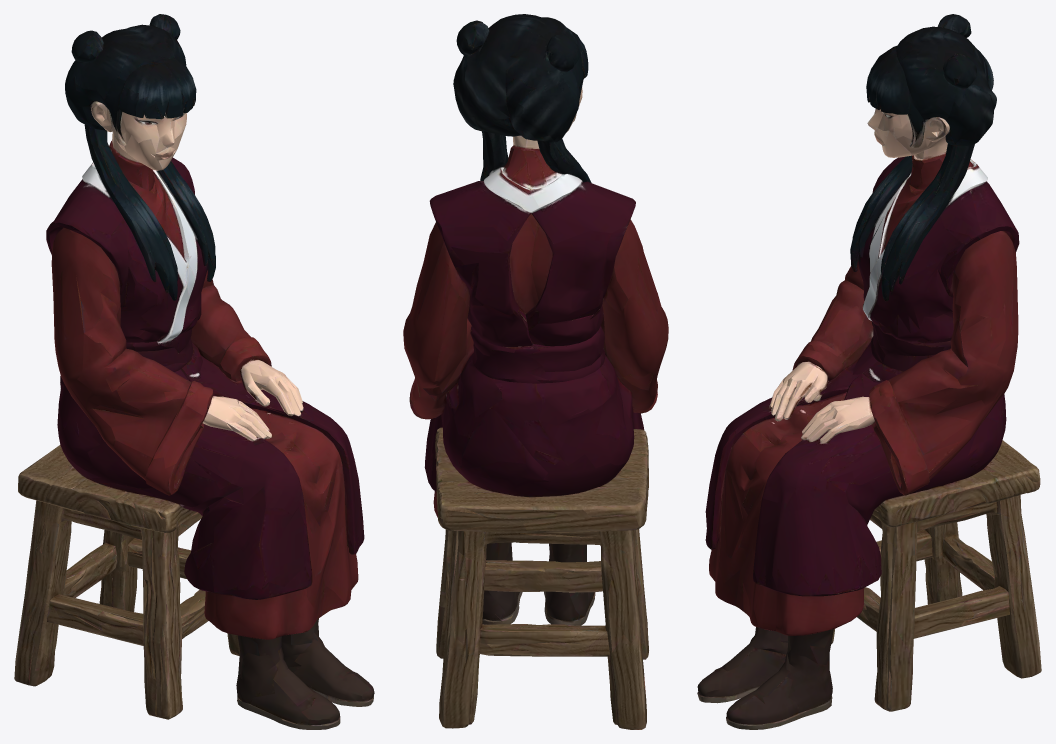
The model's file is mai.glb.
The picture shows the model from 3 angles, left to right: view 1: azimuth 30°, elevation 25°; view 2: azimuth 150°, elevation 25°; view 3: azimuth 270°, elevation 25°; orthographic projection. The views are drawn at different scales.
Parts seen in each view (by area): view 1: Mesh_0; view 2: Mesh_0; view 3: Mesh_0.
Boxes of the visible parts, x1,y1,x2,y2 form: Mesh_0: (14, 14, 374, 729); Mesh_0: (403, 14, 668, 729); Mesh_0: (697, 14, 1041, 729).
Bounding box in the file's own units: 0.8534 × 1.9 × 0.9432.
1 material, 1 textured.
